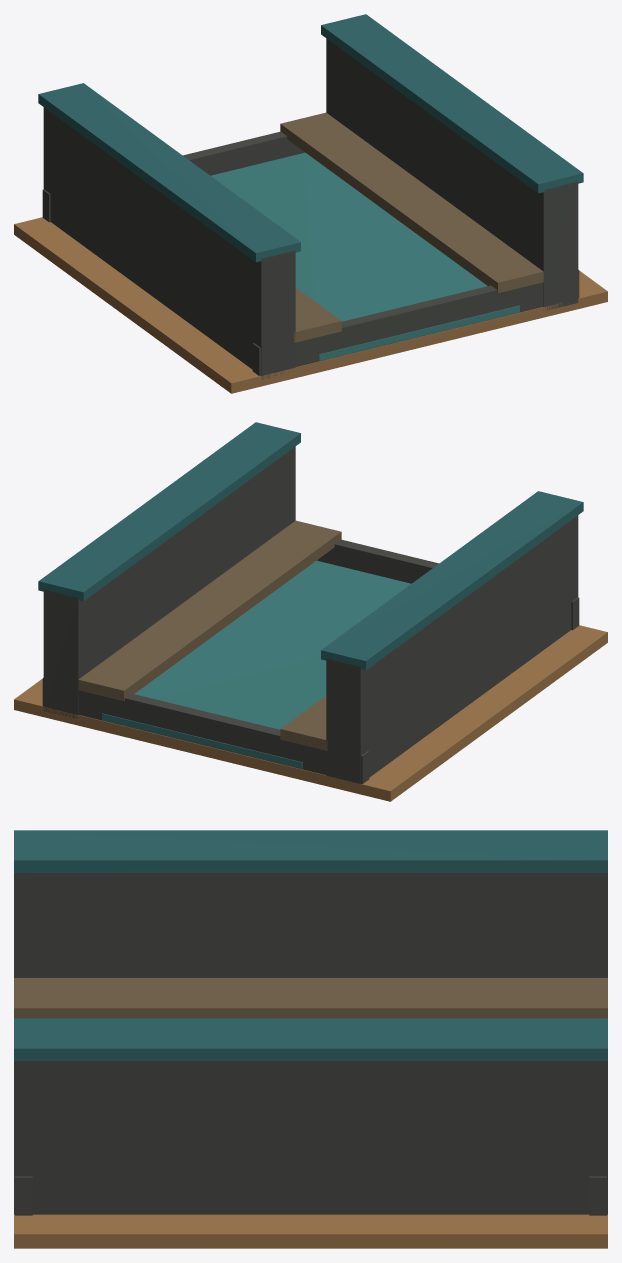
File: Flood-channel.glb
3 renders of one model, top to bottom at view 1: azimuth 30°, elevation 25°; view 2: azimuth 150°, elevation 25°; view 3: azimuth 270°, elevation 25°, orthographic. The views are drawn at different scales.
Parts seen in each view (by area): view 1: flood-channel-static-flood-concrete, flood-channel-static-flood-mark, flood-channel-static-flood-water, flood-channel-static-flood-edge, flood-channel-static-flood-earth; view 2: flood-channel-static-flood-concrete, flood-channel-static-flood-mark, flood-channel-static-flood-water, flood-channel-static-flood-edge, flood-channel-static-flood-earth; view 3: flood-channel-static-flood-concrete, flood-channel-static-flood-mark, flood-channel-static-flood-edge, flood-channel-static-flood-earth.
Part boxes in pixels (x1,y1,x2,y2): flood-channel-static-flood-concrete: (42, 38, 579, 379); flood-channel-static-flood-mark: (38, 14, 583, 262); flood-channel-static-flood-water: (210, 152, 519, 360); flood-channel-static-flood-edge: (280, 112, 543, 342); flood-channel-static-flood-earth: (14, 217, 607, 393); flood-channel-static-flood-concrete: (42, 446, 579, 786); flood-channel-static-flood-mark: (38, 422, 583, 670); flood-channel-static-flood-water: (102, 560, 411, 768); flood-channel-static-flood-edge: (78, 520, 341, 750); flood-channel-static-flood-earth: (14, 625, 607, 801); flood-channel-static-flood-concrete: (14, 873, 607, 1215); flood-channel-static-flood-mark: (14, 830, 607, 1060); flood-channel-static-flood-edge: (14, 978, 607, 1018); flood-channel-static-flood-earth: (14, 1214, 607, 1248).
Size of the model in its own units: 6 by 2.05 by 6.
